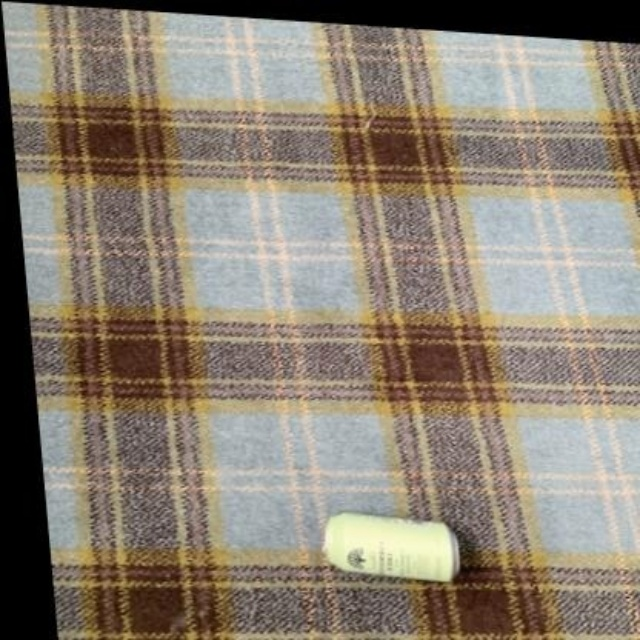trash: (323, 512, 458, 580)
